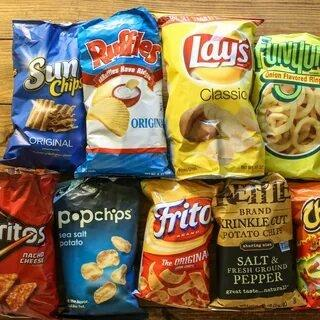snack: (75, 8, 176, 179), (165, 18, 268, 182), (208, 172, 306, 311), (57, 172, 147, 319), (136, 179, 217, 310), (253, 32, 320, 180)
